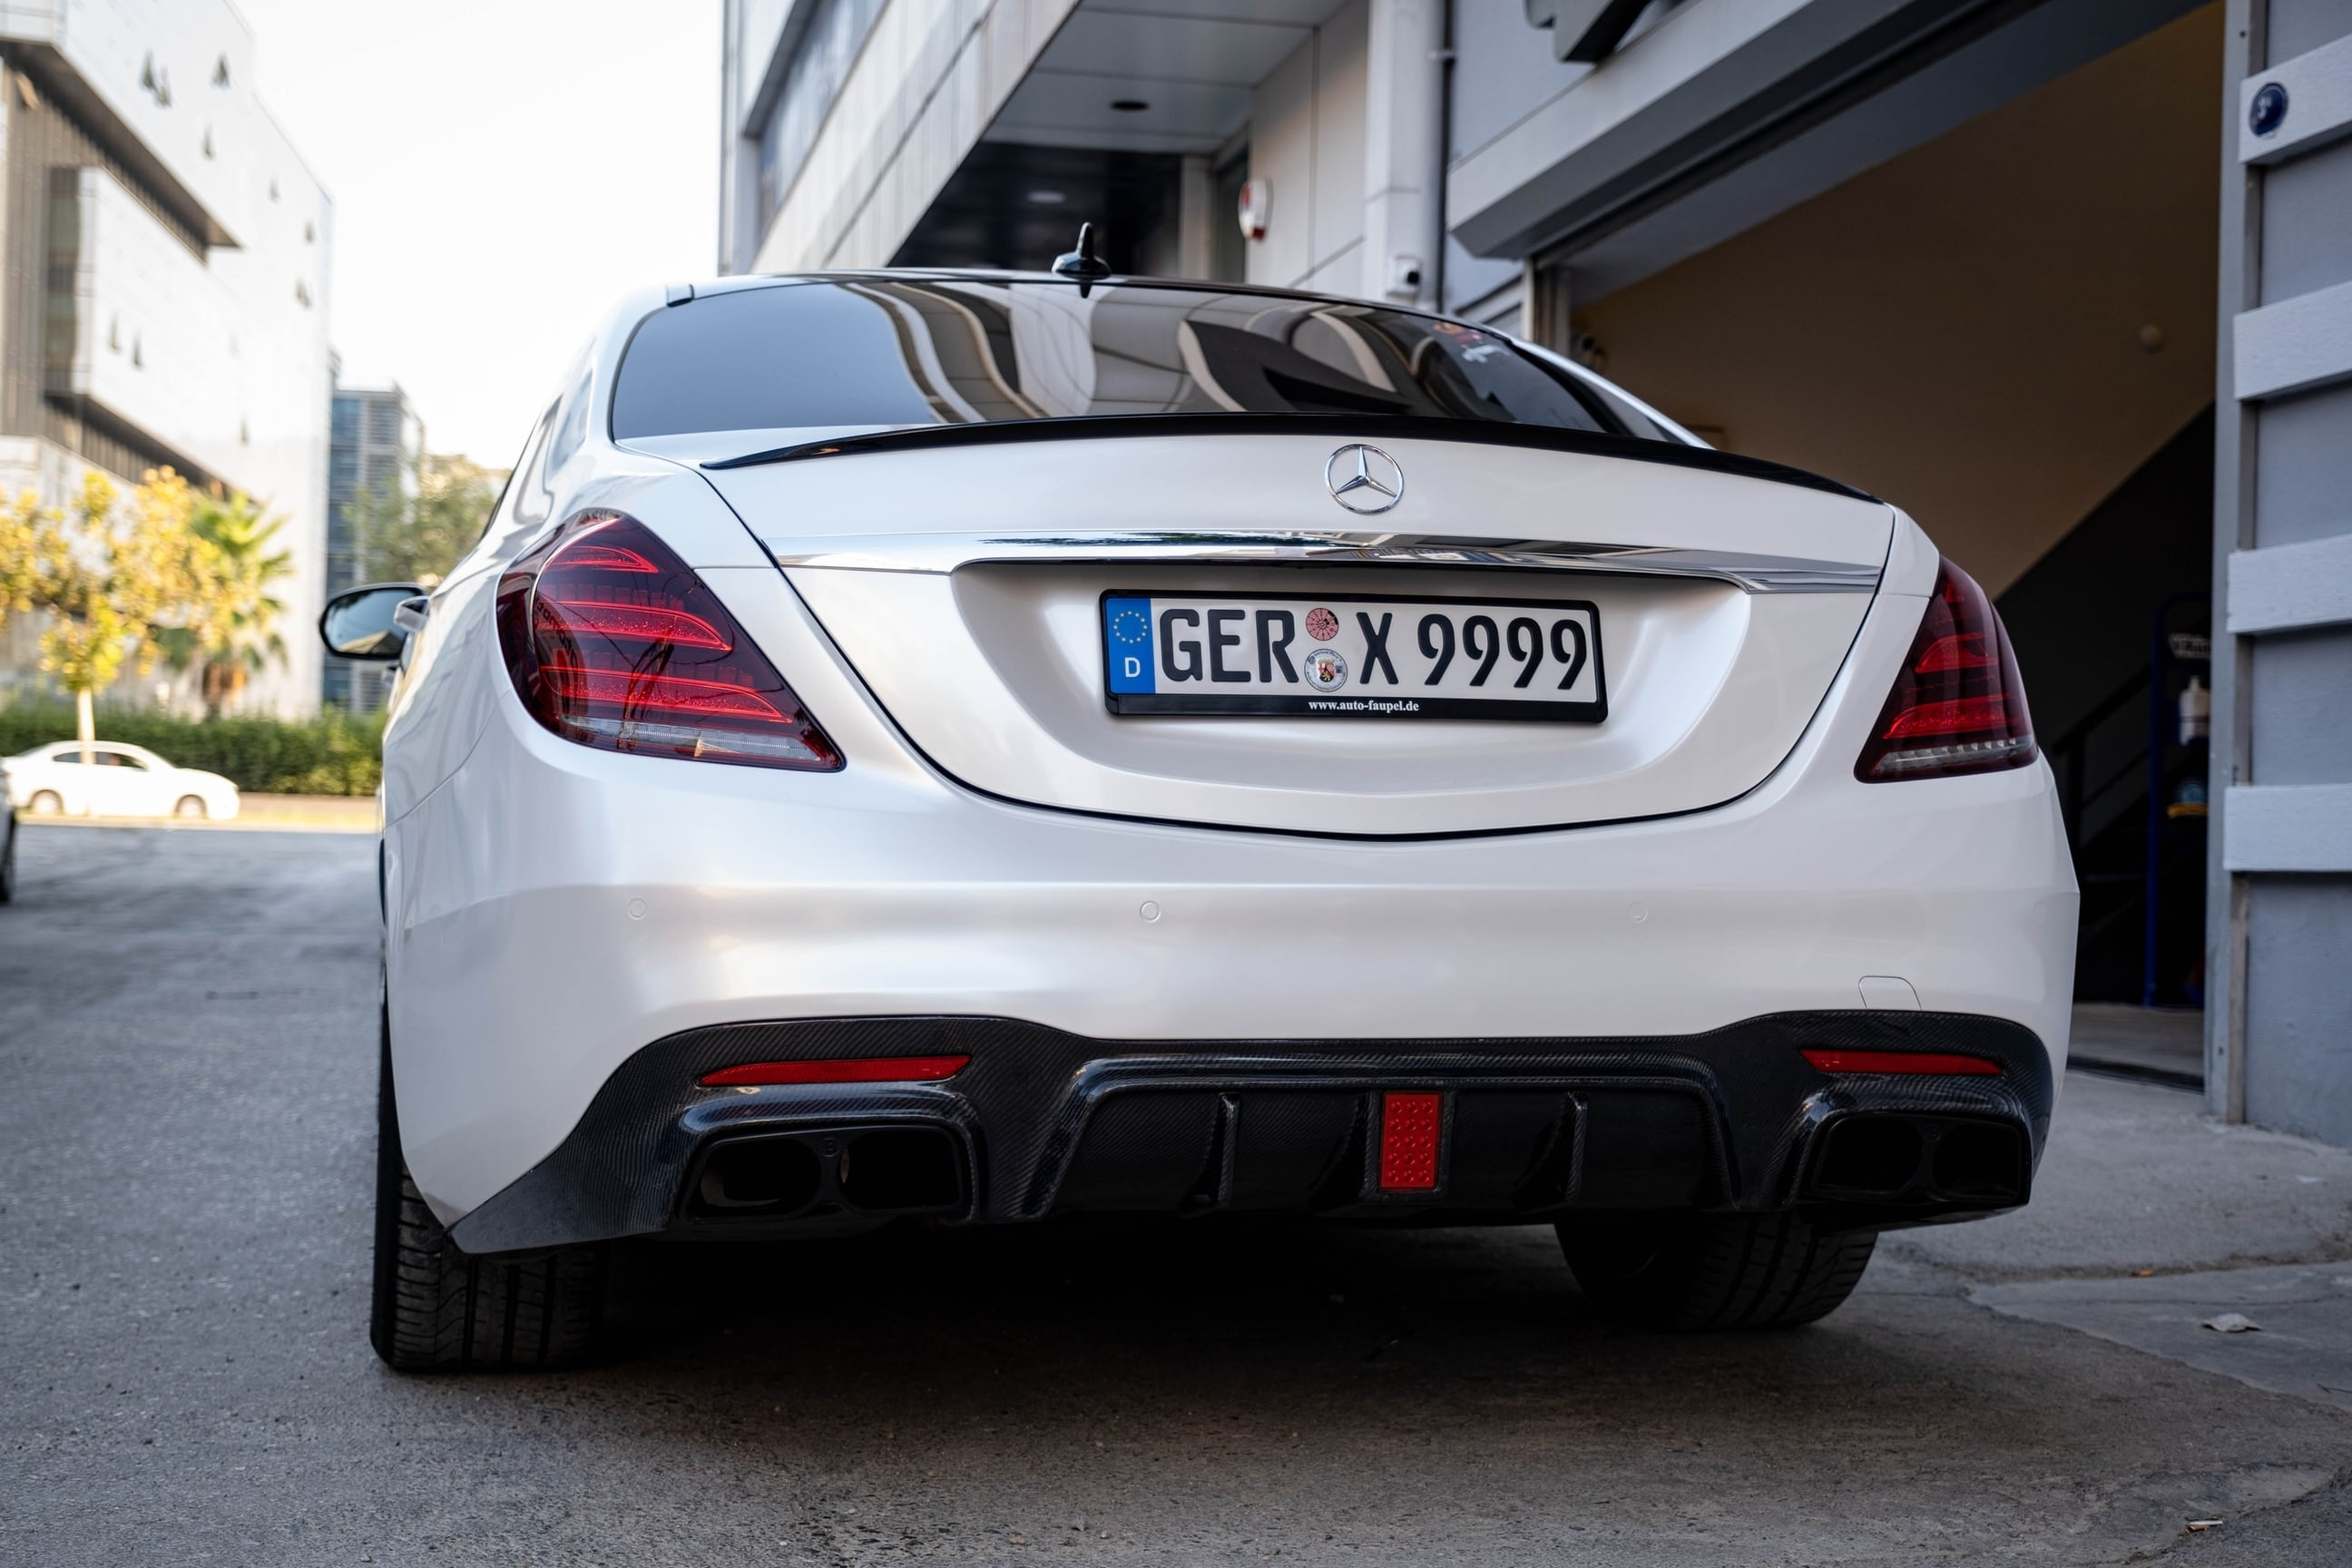plaka: (1098, 585, 1607, 707)
